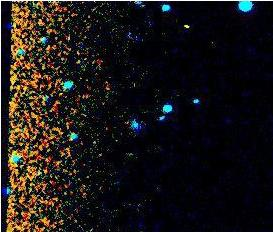star: (171, 12, 201, 42)
